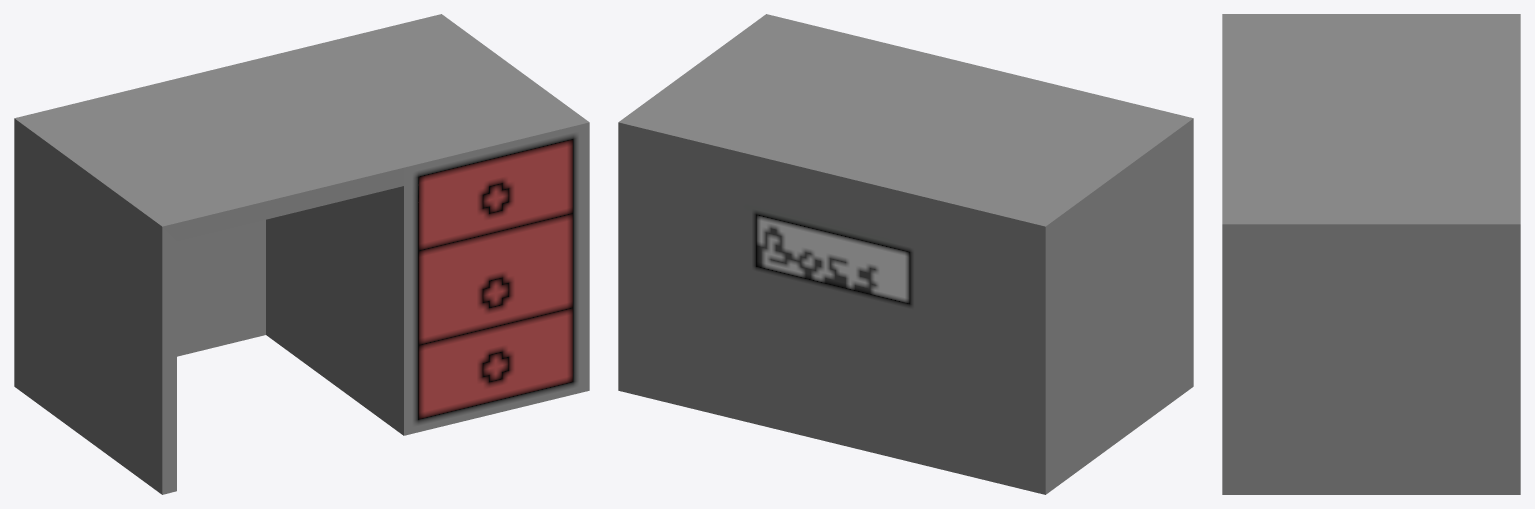
File: HDesk.fbx
3 views of the same model, side by side, from view 1: azimuth 30°, elevation 25°; view 2: azimuth 150°, elevation 25°; view 3: azimuth 270°, elevation 25° (orthographic).
Parts seen in each view (by area): view 1: Cube; view 2: Cube; view 3: Cube.
Part boxes in pixels (<box>): Cube: <box>14,14,589,494</box>; Cube: <box>618,14,1193,494</box>; Cube: <box>1222,14,1520,494</box>.
Size of the model in its own units: 200 by 120 by 120.
Materials: 1 (1 with a texture image).
